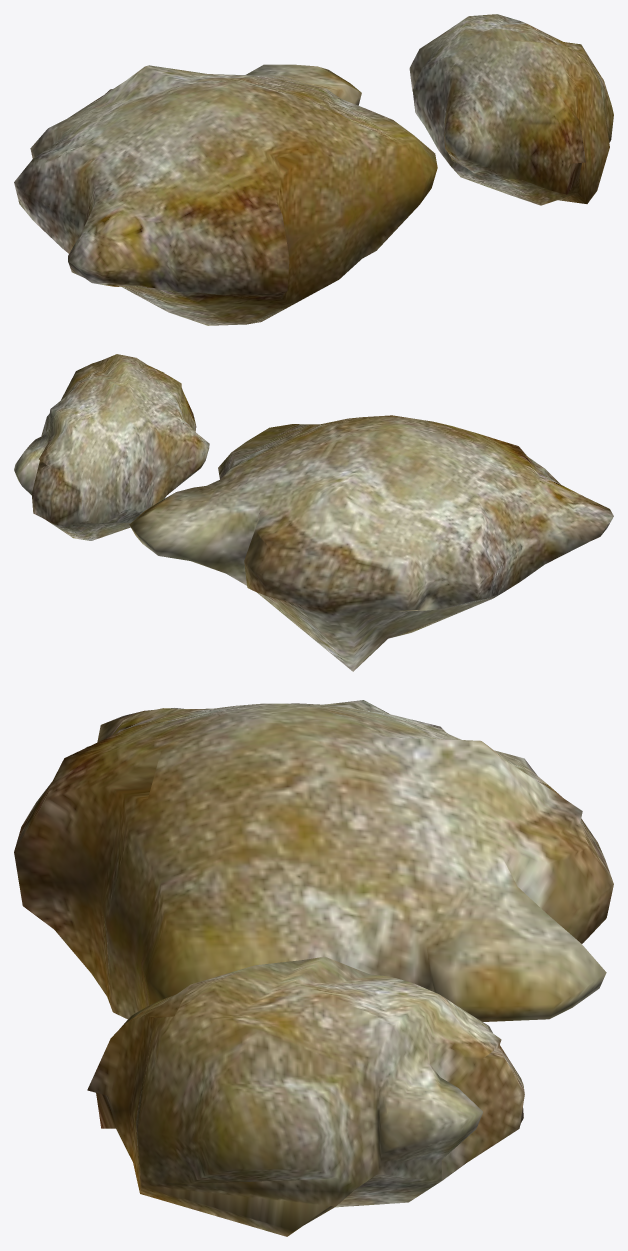
The model's file is ruxiang.FBX.
The picture shows the model from 3 angles, top to bottom: view 1: azimuth 30°, elevation 25°; view 2: azimuth 150°, elevation 25°; view 3: azimuth 270°, elevation 25°; orthographic projection. The views are drawn at different scales.
Parts seen in each view (by area): view 1: Line001, Line002; view 2: Line001, Line002; view 3: Line001, Line002.
Part boxes in pixels (<box>): Line001: <box>14,64,437,325</box>; Line002: <box>409,14,613,205</box>; Line001: <box>129,415,613,671</box>; Line002: <box>14,354,209,540</box>; Line001: <box>14,700,613,1021</box>; Line002: <box>87,956,524,1236</box>.
Size of the model in its own units: 669 by 258 by 399.
1 material, 1 textured.
